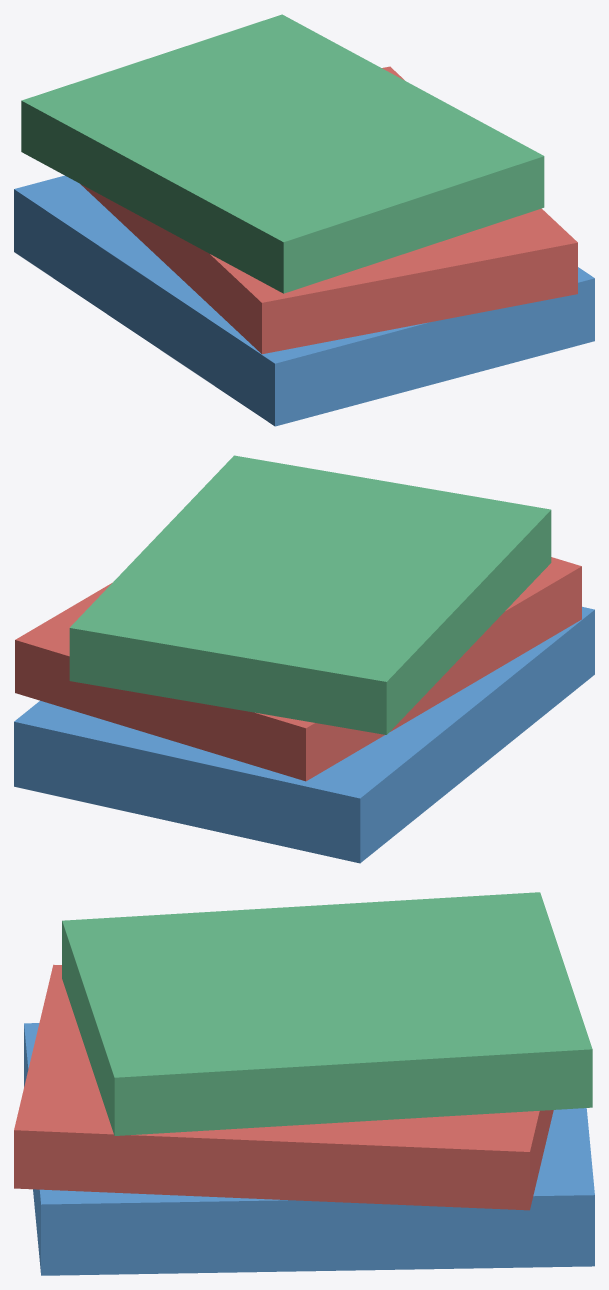
Rendered from Prop_BookStack.glb.
3 renders of one model, top to bottom at view 1: azimuth 30°, elevation 25°; view 2: azimuth 150°, elevation 25°; view 3: azimuth 270°, elevation 25°, orthographic. The views are drawn at different scales.
Parts seen in each view (by area): view 1: B3, B1, B2; view 2: B3, B1, B2; view 3: B3, B2, B1.
Part boxes in pixels (x1,y1,x2,y2): B3: (21, 14, 544, 293); B1: (14, 175, 594, 426); B2: (80, 66, 577, 354); B3: (69, 455, 551, 734); B1: (14, 606, 594, 863); B2: (15, 557, 581, 781); B3: (62, 892, 592, 1135); B2: (14, 964, 553, 1210); B1: (24, 1023, 594, 1275).
Bounding box in the file's own units: 0.2667 × 0.116 × 0.3249.
